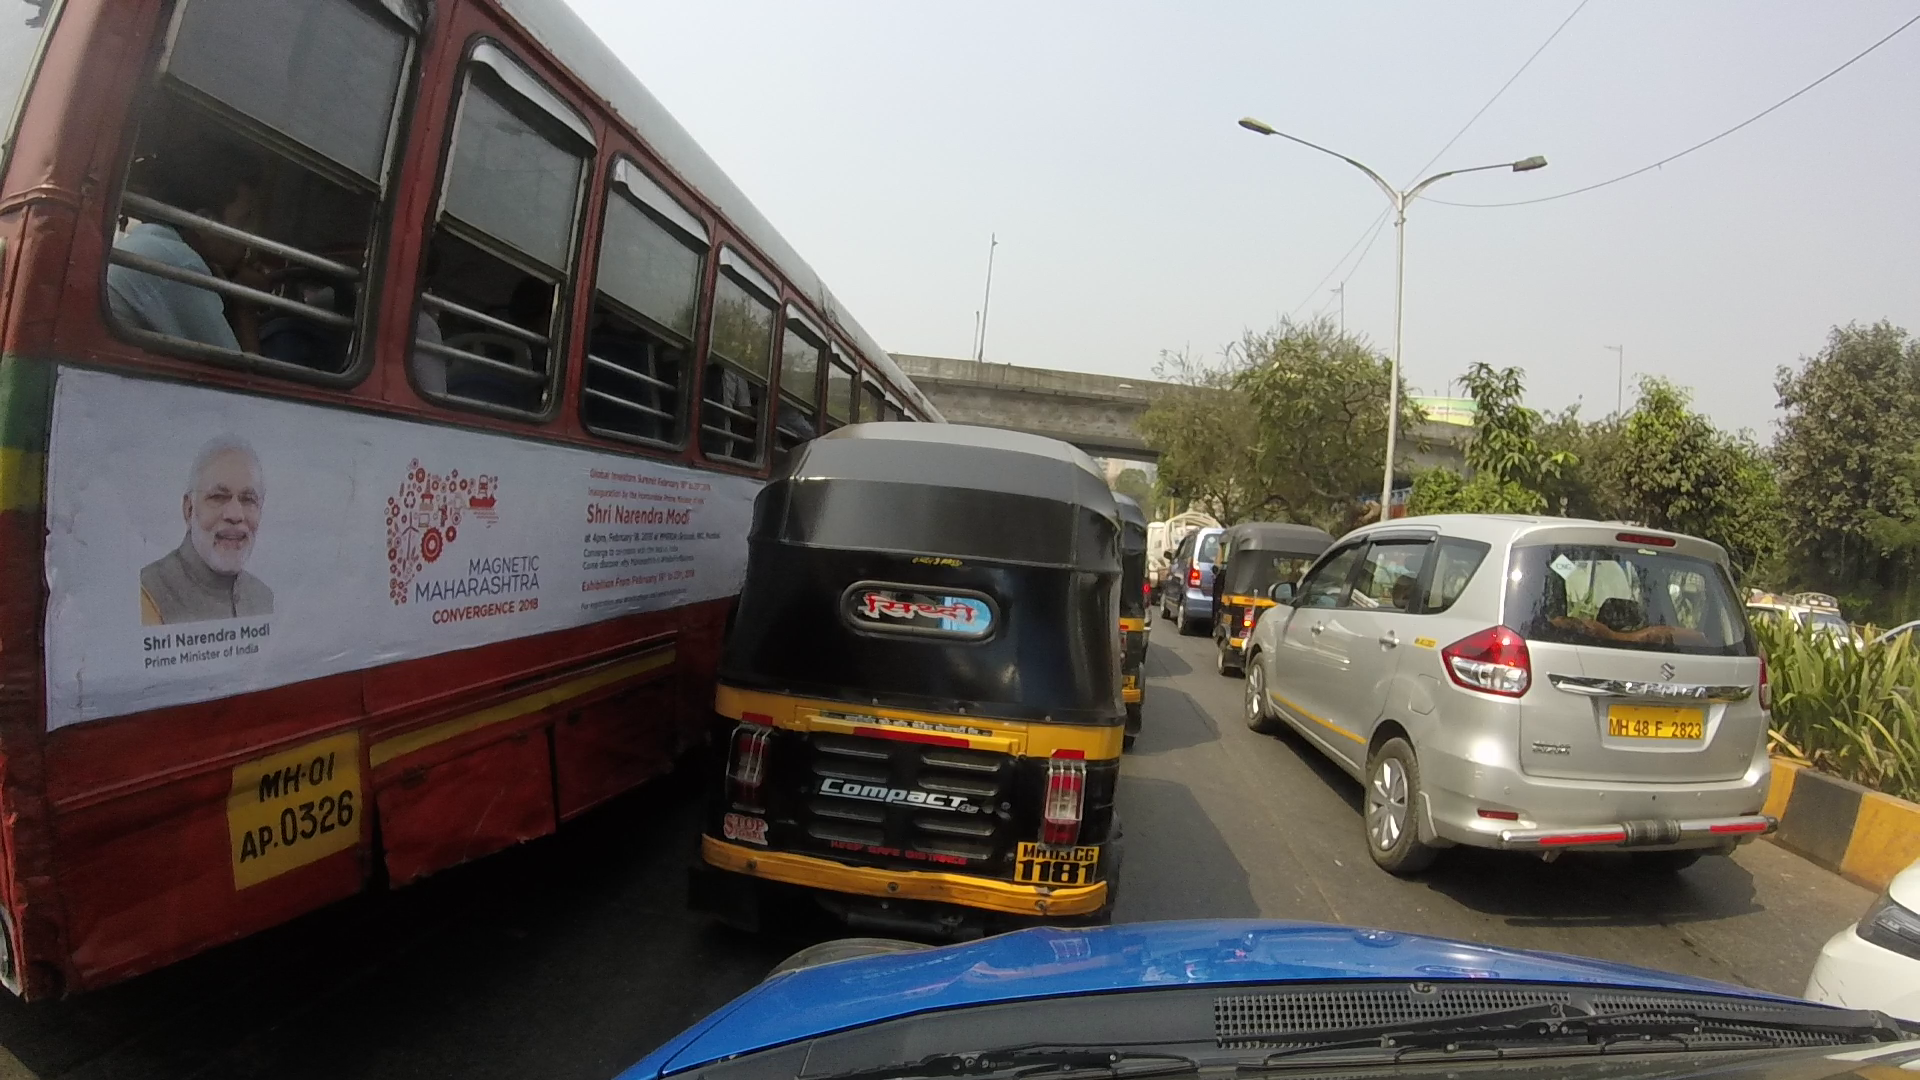bus: (1, 1, 865, 1007)
car: (1251, 492, 1807, 876), (1774, 781, 1920, 1029)
rickshaw: (702, 384, 1133, 931), (1065, 484, 1195, 737), (1204, 495, 1338, 692)
